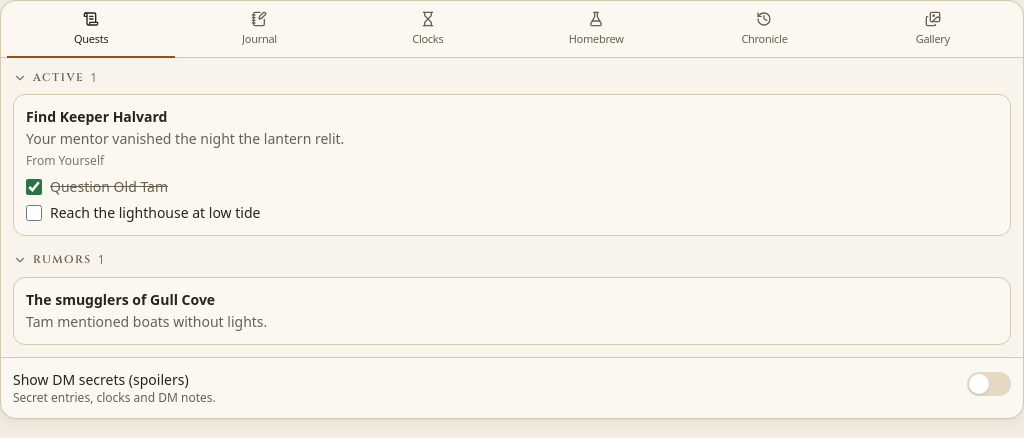
Test case: JournalPanel › shows the empty journal, not "Nothing matches", when every entry is a DM secret
The image size is (1024, 438).
Step 1. Click the tab "Journal" → [259, 31], box [175,5,344,58]
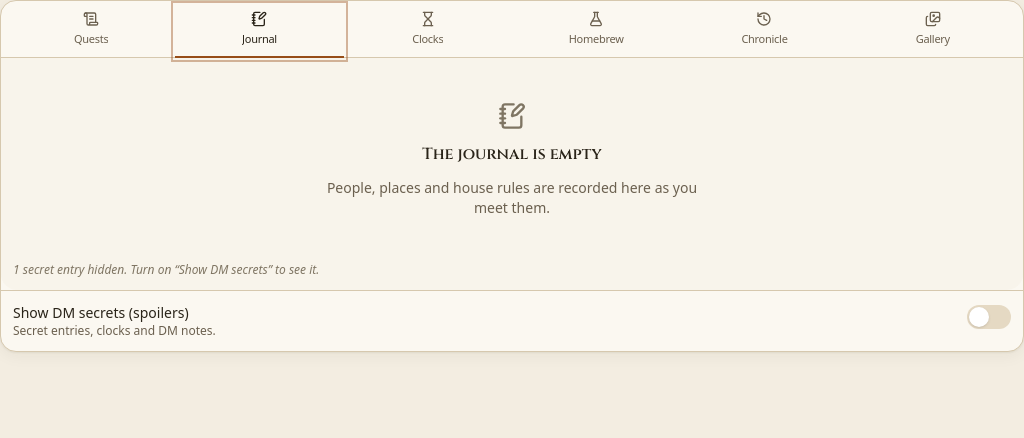
Expected: the text "The journal is empty" is shown, [422,142,602,166]
Expected: the text "1 secret entry hidden. Turn on “Show DM secrets” to see it." is shown, [13,260,319,278]
Step 2. Click the switch named "Show DM secrets (spoilers)" → [989, 316], box [967,304,1011,328]
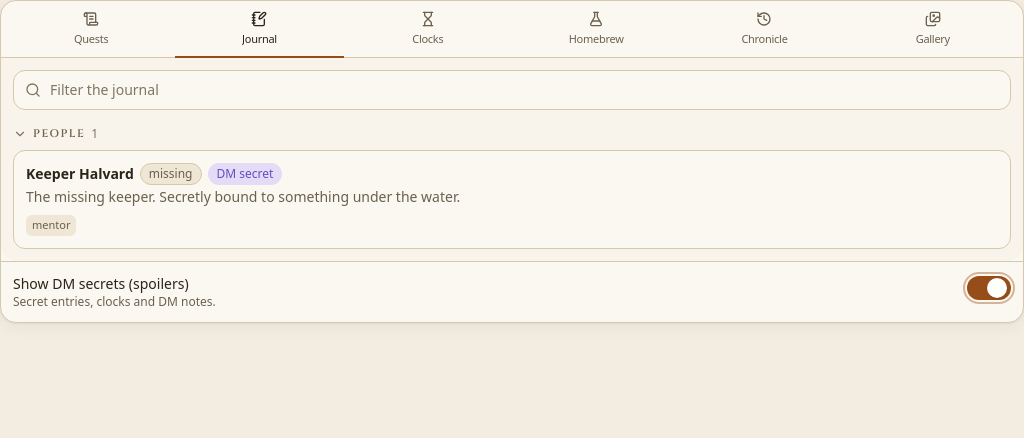
Expected: the heading "Keeper Halvard" is shown, [26,164,134,184]
